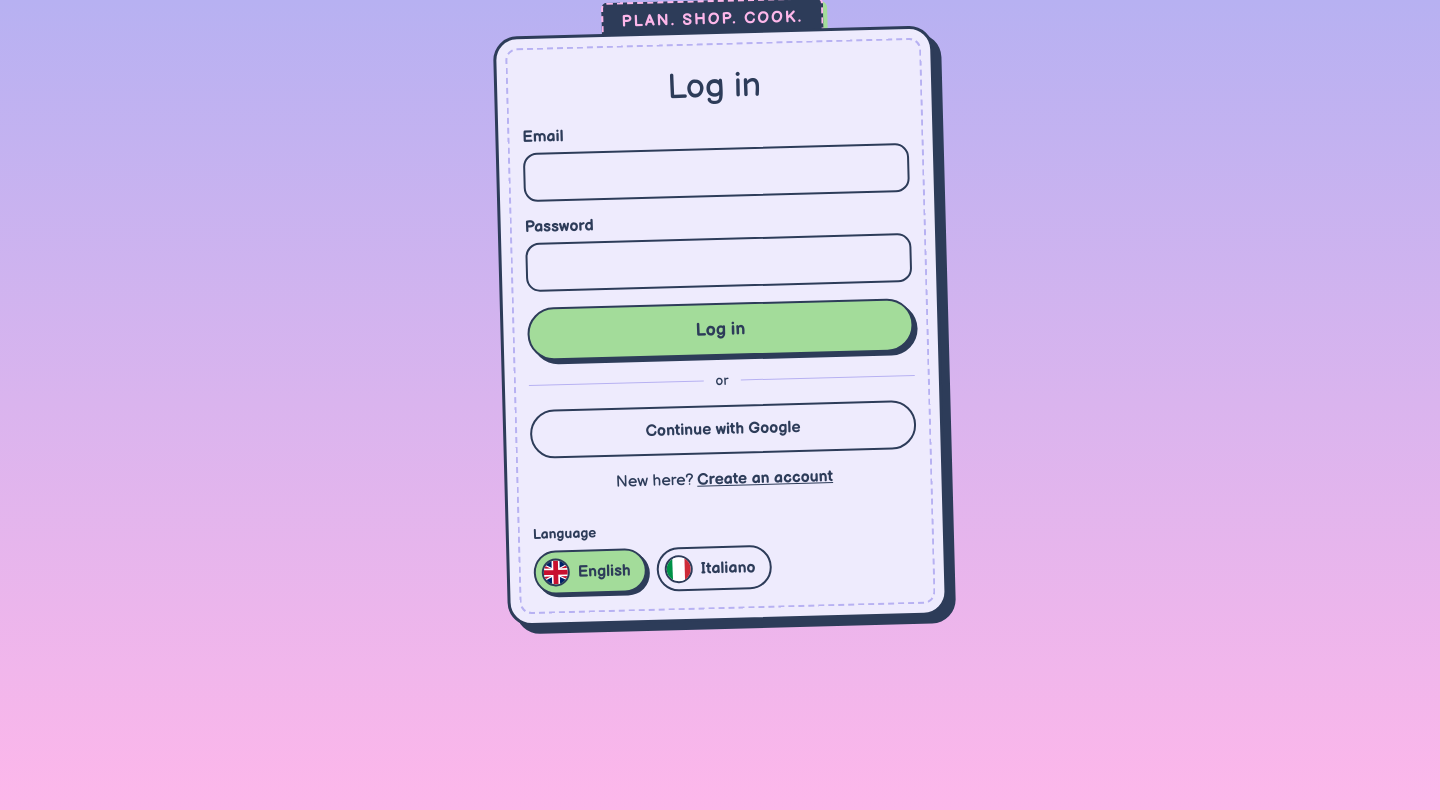
Test: AuthForm Google button › shows an error when Google sign-in fails
The width and height of the screenshot is (1440, 810).
Click the button "Continue with Google": click(723, 429) [530, 400, 917, 459]
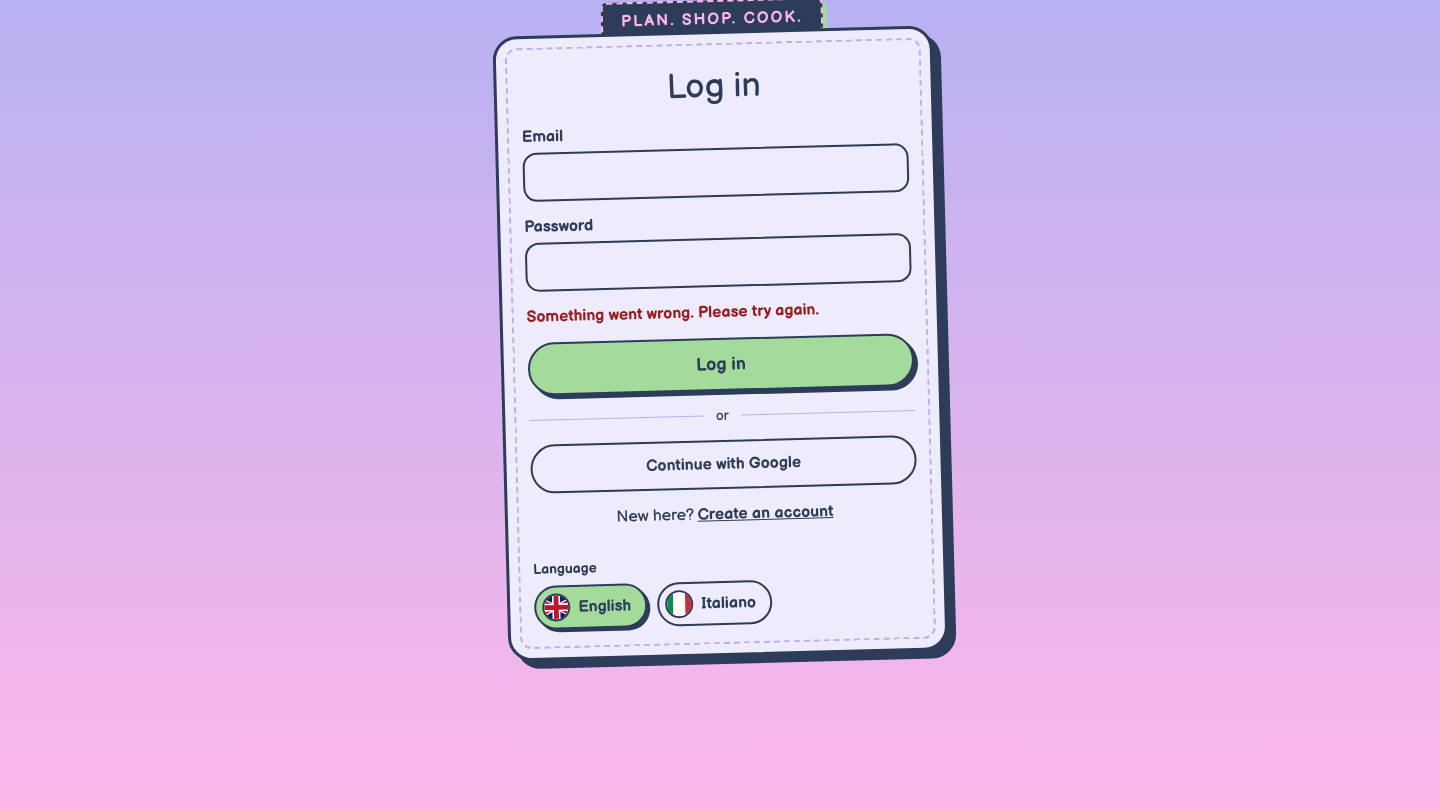
Check: the message "Something went wrong. Please try again." is shown, box [526, 300, 819, 327]
